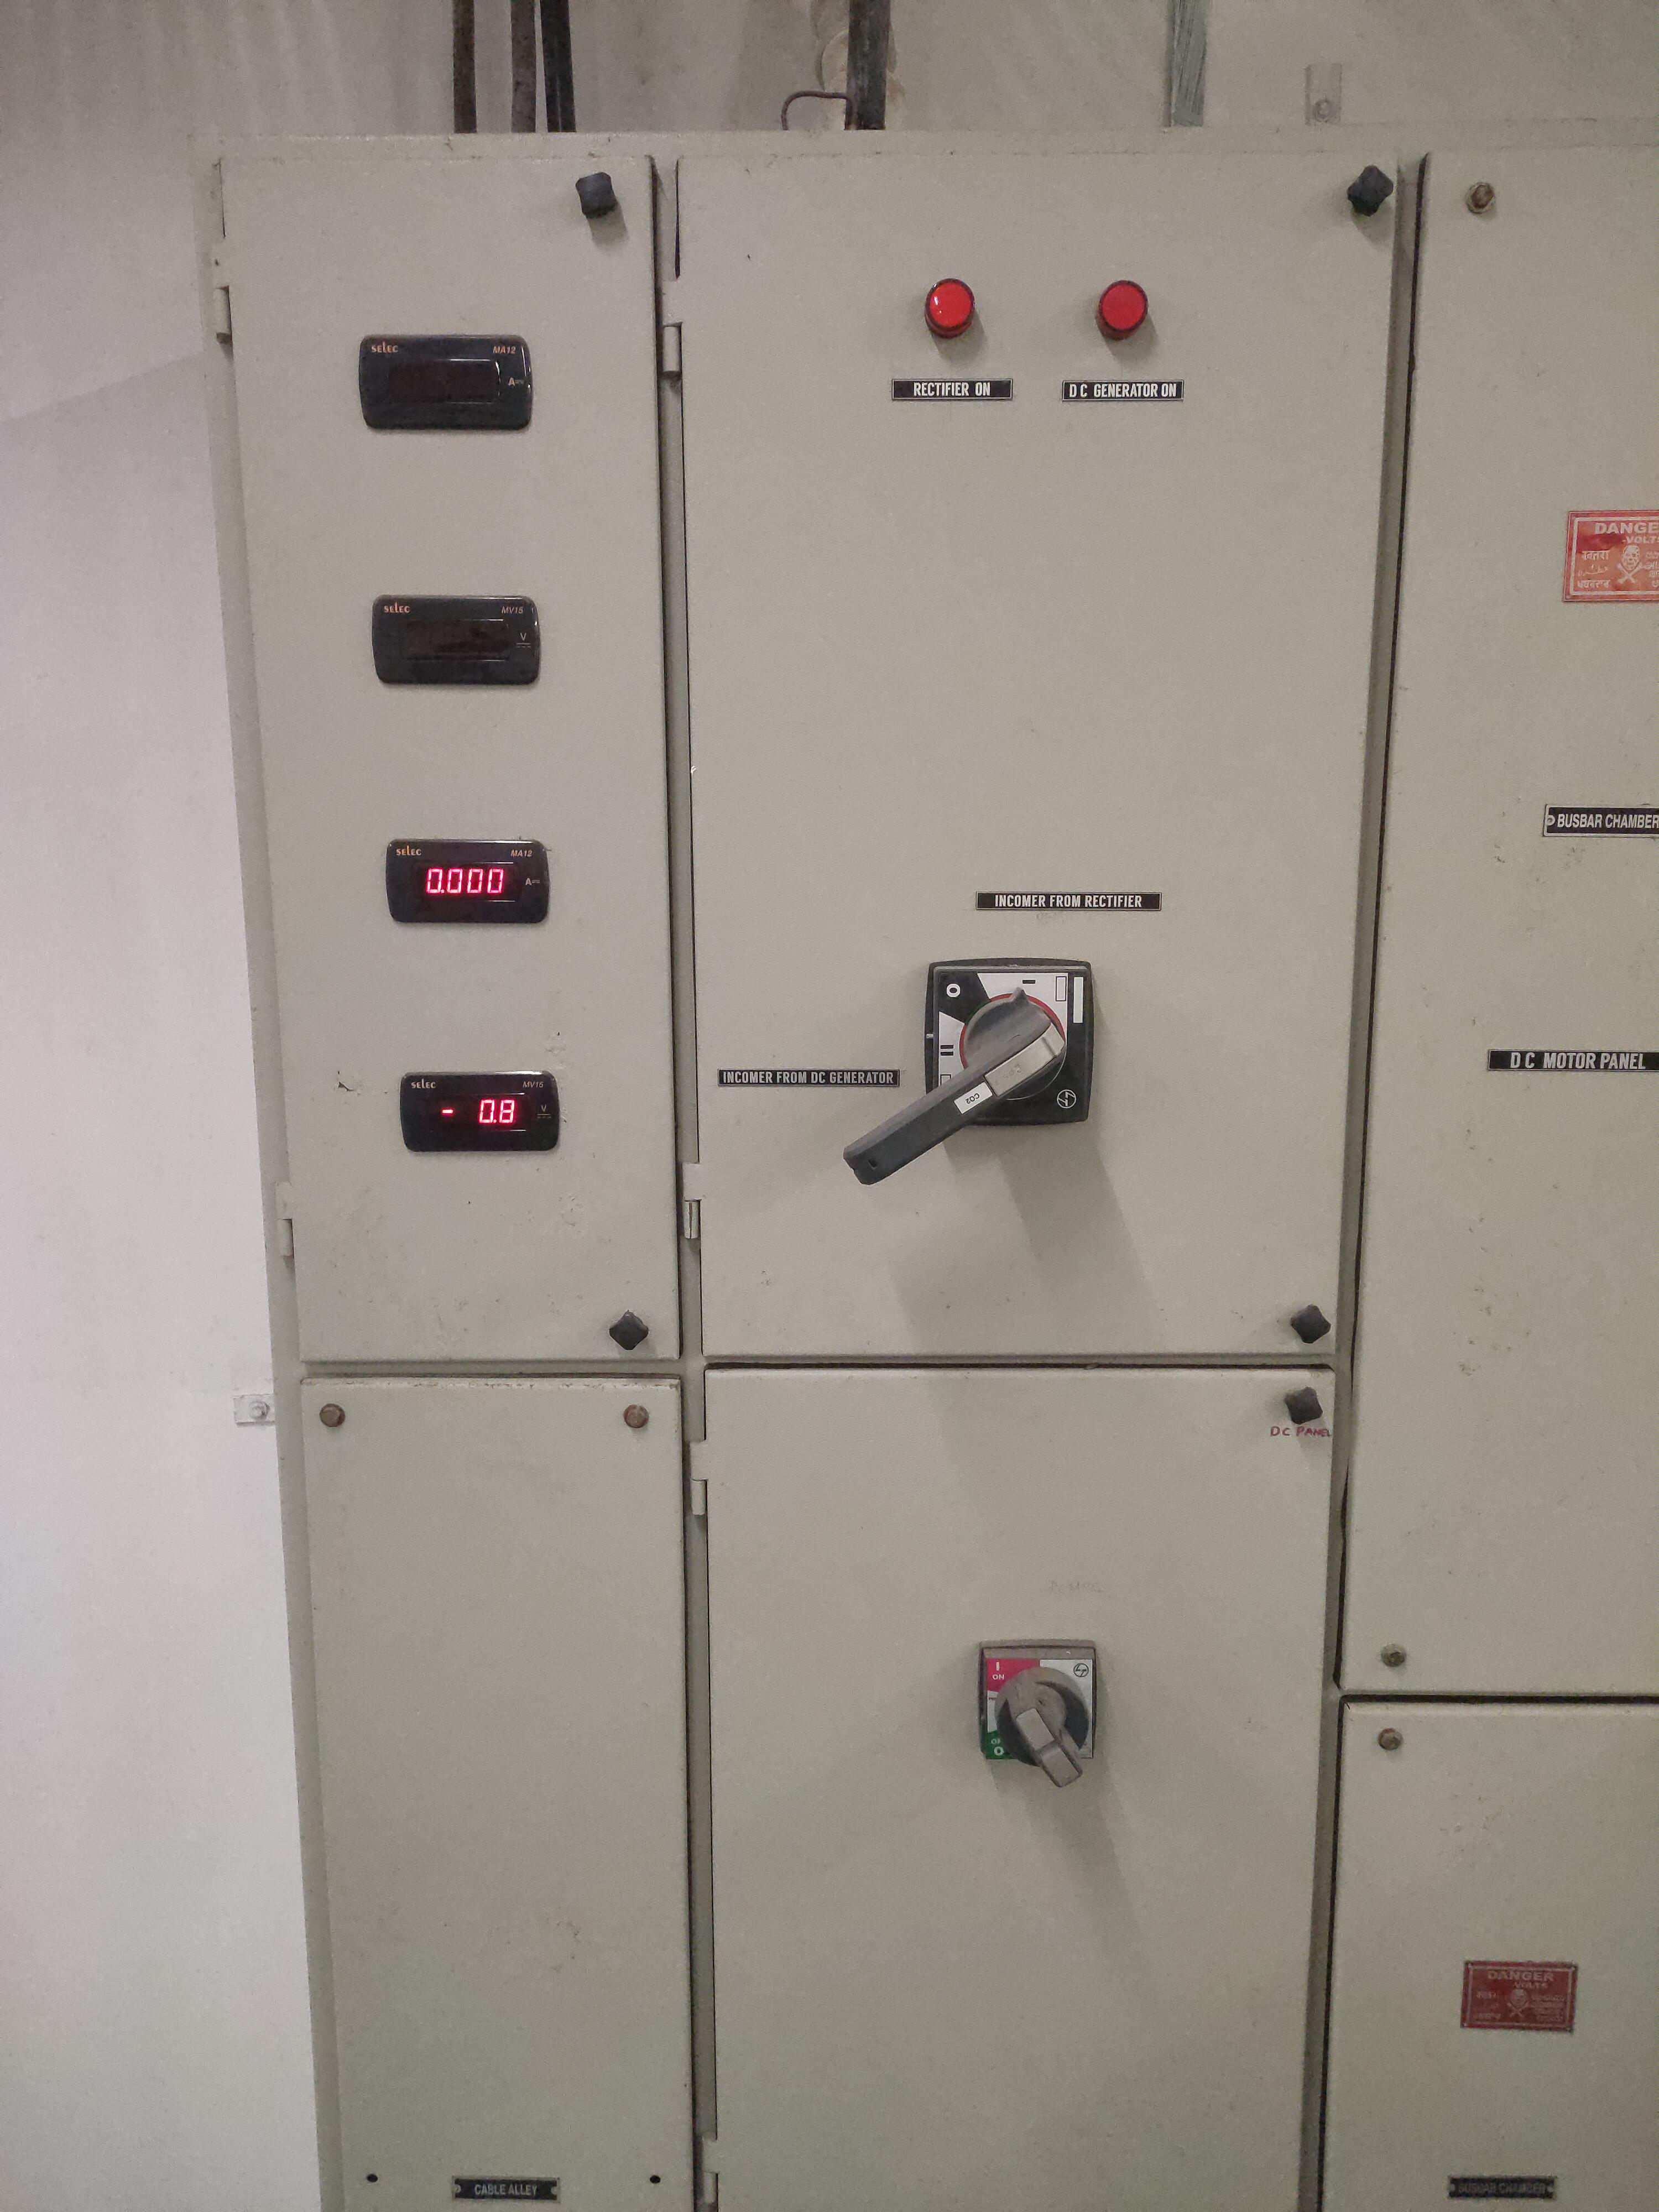Knob 1: (807, 925, 1134, 1216)
Knob 2: (957, 1608, 1115, 1789)
Light Indications: (878, 247, 1161, 427)
